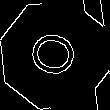O_E: (25, 27, 85, 83)
